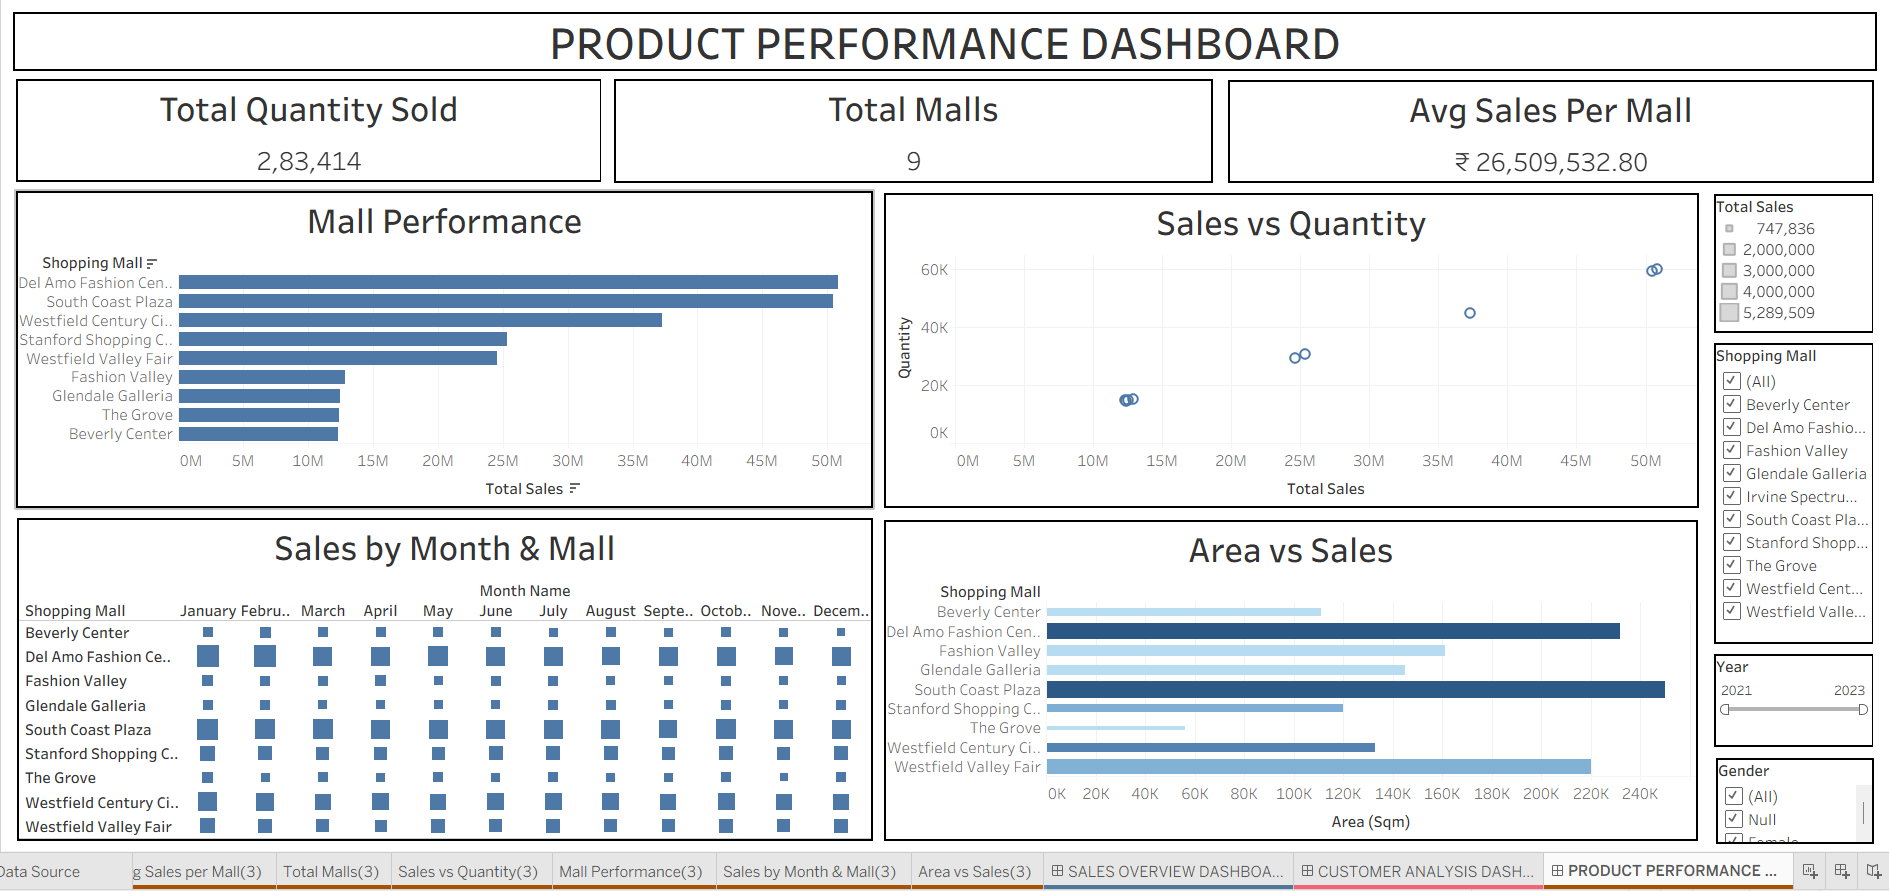

The dashboard page shown, as its layout file describes it:
{"tool":"tableau","page":{"name":"PRODUCT PERFORMANCE DASHBOARD","canvas":[1000,1000],"units":"permille","ordinal":1},"visuals":[{"type":"title","box":[4.8,9.4,990.3,78.7]},{"type":"worksheet","title":"Total Quantity Sold(3)","mark":"Automatic","box":[7.9,92.8,310.2,121]},{"type":"worksheet","title":"Total Malls(3)","mark":"Automatic","box":[324.7,92.8,317.4,122.2]},{"type":"worksheet","title":"Avg Sales per Mall(3)","mark":"Automatic","box":[650,94,342.2,121]},{"type":"worksheet","title":"Mall Performance(3)","mark":"Automatic","rows":["shopping_mall"],"cols":["total_sales"],"box":[7.9,224.4,453.8,372.5]},{"type":"worksheet","title":"Sales vs Quantity(3)","mark":"Automatic","rows":["quantity"],"cols":["total_sales"],"box":[467.7,226.8,431.5,370.2]},{"type":"legend","title":"Sales by Month & Mall(3)","param":"[federated.1odhrio1aof2uv17c4m0p1lilno2].[sum:total_sales:qk]","box":[907.1,228,84.5,163.3]},{"type":"filter","title":"Area vs Sales(3)","param":"[federated.1odhrio1aof2uv17c4m0p1lilno2].[none:shopping_mall:nk]","box":[907.1,403.1,84.5,353.7]},{"type":"worksheet","title":"Sales by Month & Mall(3)","mark":"Automatic","rows":["shopping_mall"],"cols":["month_name"],"box":[8.4,608.7,453.2,379.6]},{"type":"worksheet","title":"Area vs Sales(3)","mark":"Automatic","rows":["shopping_mall"],"cols":["area (sqm)"],"box":[467.7,611.1,430.9,377.2]},{"type":"filter","title":"Area vs Sales(3)","param":"[federated.1odhrio1aof2uv17c4m0p1lilno2].[none:year:qk]","box":[907.1,768.5,84.5,109.3]},{"type":"filter","title":"Area vs Sales(3)","param":"[federated.1odhrio1aof2uv17c4m0p1lilno2].[none:gender:nk]","box":[908.3,890.7,83.9,101.1]}]}

Visuals, with their boxes on the dashboard's canvas, which has no fixed pixel size, in thousandths of its width and height (x1, y1, x2, y2). These are canvas units, not pixel positions in the 1889x891 screenshot, which may show the page scaled, cropped or inside an application window:
title: rect(5, 9, 995, 88)
"Total Quantity Sold(3)" worksheet: rect(8, 93, 318, 214)
"Total Malls(3)" worksheet: rect(325, 93, 642, 215)
"Avg Sales per Mall(3)" worksheet: rect(650, 94, 992, 215)
"Mall Performance(3)" worksheet: rect(8, 224, 462, 597)
"Sales vs Quantity(3)" worksheet: rect(468, 227, 899, 597)
"Sales by Month & Mall(3)" legend: rect(907, 228, 992, 391)
"Area vs Sales(3)" filter: rect(907, 403, 992, 757)
"Sales by Month & Mall(3)" worksheet: rect(8, 609, 462, 988)
"Area vs Sales(3)" worksheet: rect(468, 611, 899, 988)
"Area vs Sales(3)" filter: rect(907, 768, 992, 878)
"Area vs Sales(3)" filter: rect(908, 891, 992, 992)
